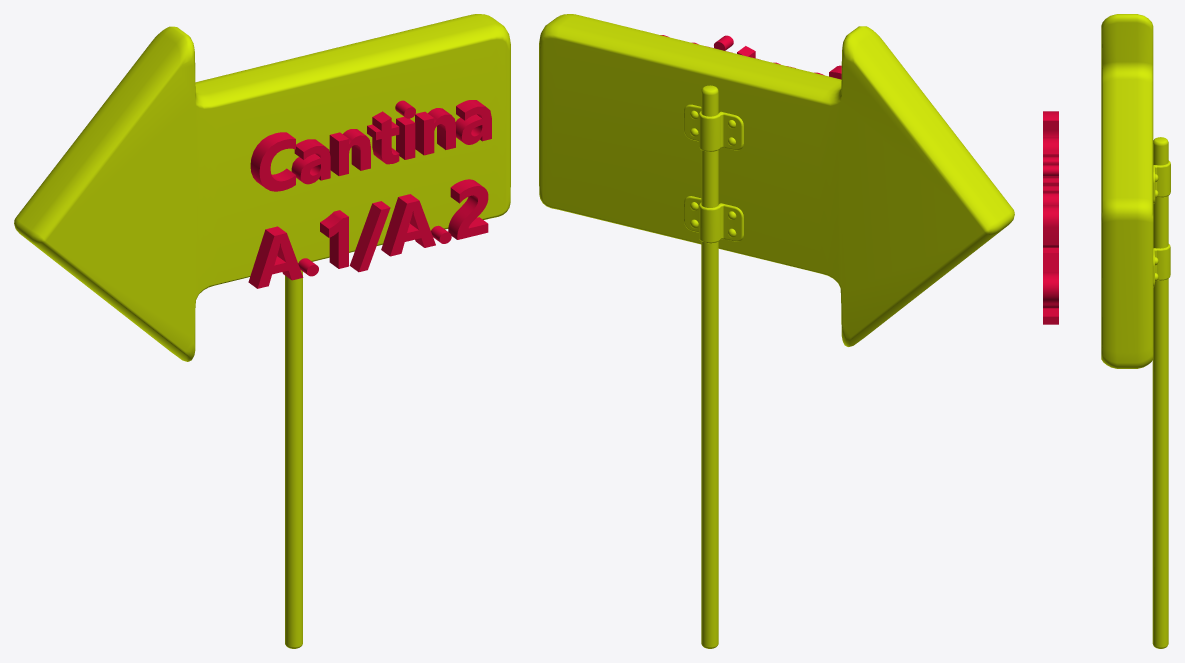
File: SETA-CANTINA-AA12.dae
3 views of the same model, side by side, from view 1: azimuth 30°, elevation 25°; view 2: azimuth 150°, elevation 25°; view 3: azimuth 270°, elevation 25° (orthographic). The views are drawn at different scales.
Visible parts, largest first — view 1: node_id30, mesh_id40, mesh_id41; view 2: node_id30; view 3: node_id30, mesh_id40, mesh_id41.
Boxes of the visible parts, box(x1,y1,x2,y2) form: node_id30: box(14, 14, 510, 648); mesh_id40: box(250, 100, 491, 191); mesh_id41: box(248, 179, 488, 288); node_id30: box(539, 14, 1014, 648); node_id30: box(1101, 14, 1170, 648); mesh_id40: box(1043, 111, 1058, 245); mesh_id41: box(1043, 245, 1058, 324).
Size of the model in its own units: 0.4593 by 0.122 by 0.6064.
